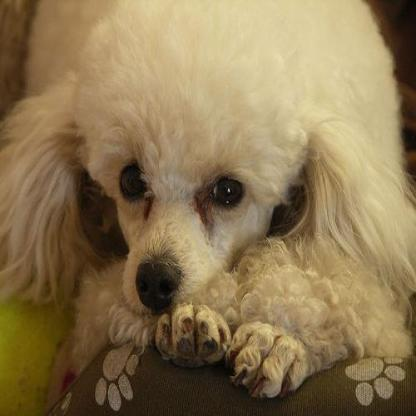toy_poodle: (1, 1, 414, 395)
